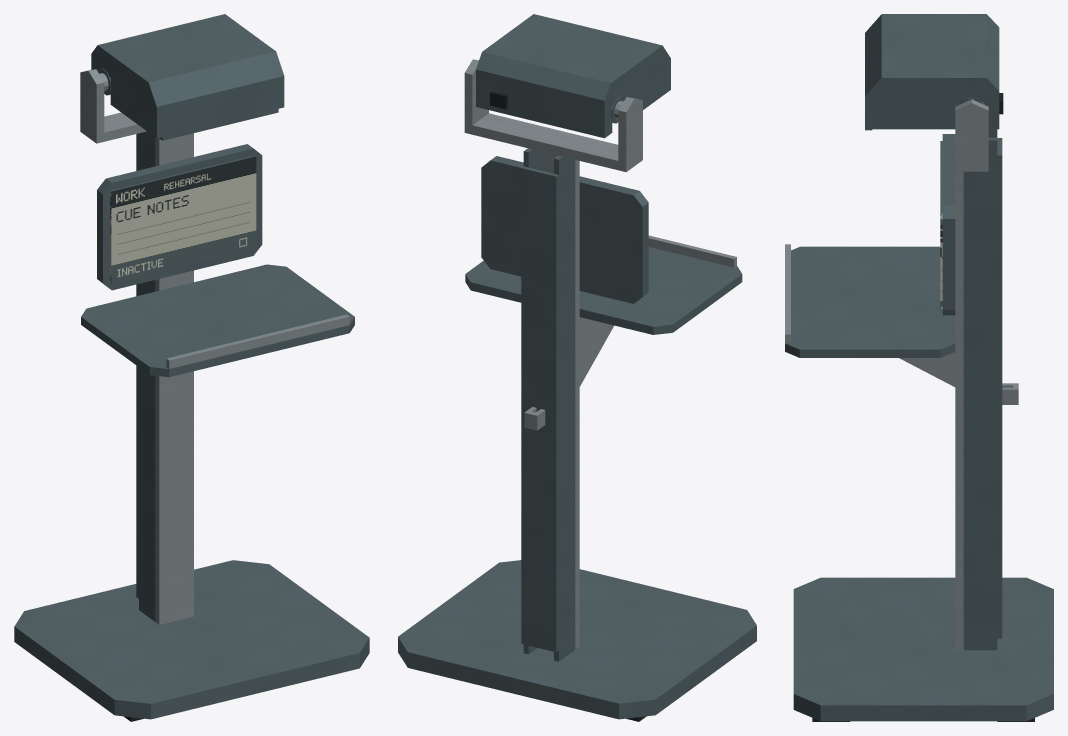
The model's file is AST-CUL-004.glb.
3 views of the same model, side by side, from view 1: azimuth 30°, elevation 25°; view 2: azimuth 150°, elevation 25°; view 3: azimuth 270°, elevation 25° (orthographic). The views are drawn at different scales.
Parts seen in each view (by area): view 1: AST-CUL-004__static__staff_bluegrey_paint, AST-CUL-004__LIGHT_AIM_X__staff_bluegrey_paint, AST-CUL-004__static__staff_zinc, AST-CUL-004__static__original_rehearsal_notes, AST-CUL-004__REAR_COVER_REMOVE__staff_bluegrey_paint; view 2: AST-CUL-004__static__staff_bluegrey_paint, AST-CUL-004__REAR_COVER_REMOVE__staff_bluegrey_paint, AST-CUL-004__LIGHT_AIM_X__staff_bluegrey_paint, AST-CUL-004__static__staff_zinc; view 3: AST-CUL-004__static__staff_bluegrey_paint, AST-CUL-004__LIGHT_AIM_X__staff_bluegrey_paint, AST-CUL-004__static__staff_zinc, AST-CUL-004__REAR_COVER_REMOVE__staff_bluegrey_paint, AST-CUL-004__static__original_rehearsal_notes.
Part boxes in pixels (bbox=[...]): AST-CUL-004__static__staff_bluegrey_paint: bbox=[14, 131, 369, 719]; AST-CUL-004__LIGHT_AIM_X__staff_bluegrey_paint: bbox=[91, 14, 284, 140]; AST-CUL-004__static__staff_zinc: bbox=[80, 69, 349, 624]; AST-CUL-004__static__original_rehearsal_notes: bbox=[110, 155, 256, 284]; AST-CUL-004__REAR_COVER_REMOVE__staff_bluegrey_paint: bbox=[136, 133, 138, 598]; AST-CUL-004__static__staff_bluegrey_paint: bbox=[398, 148, 756, 719]; AST-CUL-004__REAR_COVER_REMOVE__staff_bluegrey_paint: bbox=[521, 166, 558, 652]; AST-CUL-004__LIGHT_AIM_X__staff_bluegrey_paint: bbox=[476, 14, 670, 138]; AST-CUL-004__static__staff_zinc: bbox=[464, 59, 736, 649]; AST-CUL-004__static__staff_bluegrey_paint: bbox=[785, 129, 1053, 721]; AST-CUL-004__LIGHT_AIM_X__staff_bluegrey_paint: bbox=[865, 14, 999, 130]; AST-CUL-004__static__staff_zinc: bbox=[785, 99, 988, 650]; AST-CUL-004__REAR_COVER_REMOVE__staff_bluegrey_paint: bbox=[997, 138, 1002, 638]; AST-CUL-004__static__original_rehearsal_notes: bbox=[940, 141, 942, 308].
Size of the model in its own units: 0.72 by 1.62 by 0.64.
Materials: 5 (5 with a texture image).
